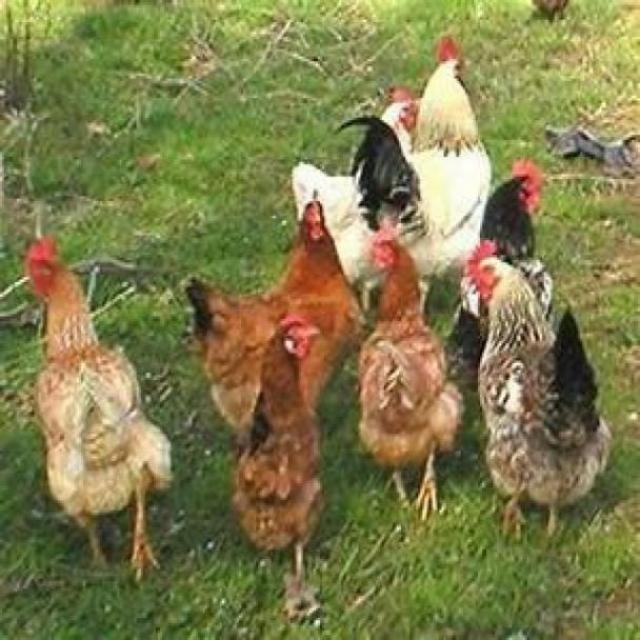Chicken: (23, 233, 175, 584), (463, 240, 612, 537), (335, 37, 493, 316), (186, 199, 363, 429), (358, 227, 463, 522), (290, 89, 418, 312), (233, 312, 327, 581), (448, 157, 557, 370)
